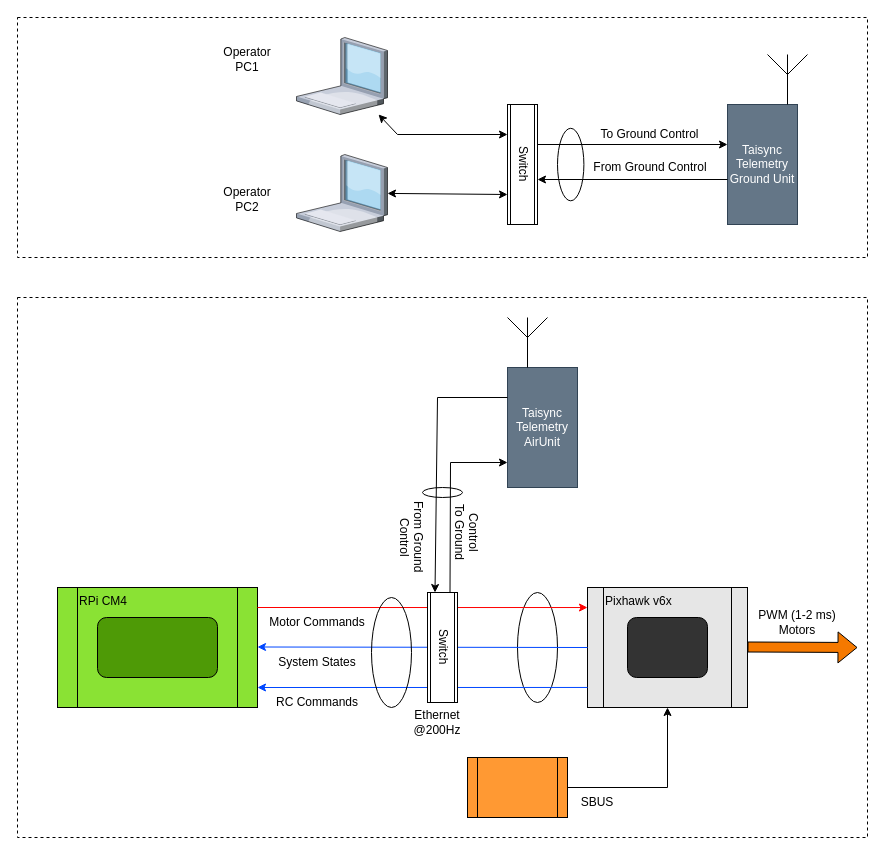
Image size: 885x855. Some labels were removed from this diagram. The centre of each missing label's shape, as x and y in pixels:
"DroneLeaf FC" belongs at (157,647).
"PX4 (DroneLeaf Version)" belongs at (667,647).
"RC Receiver" belongs at (517,787).
